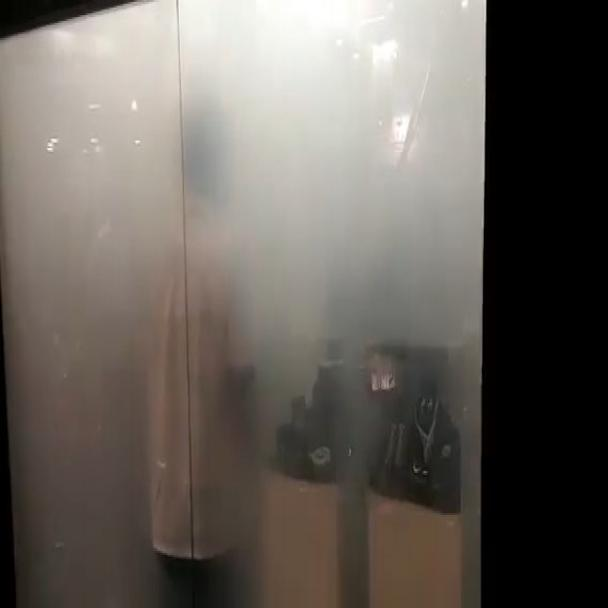smoke: (11, 22, 474, 591)
